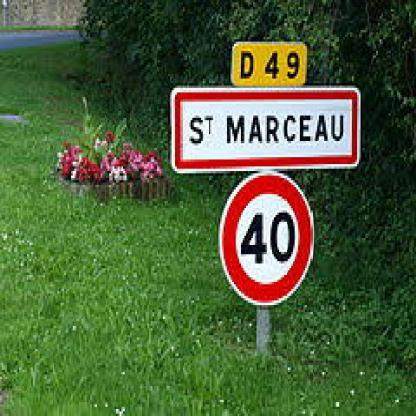Speed Limit 40: (220, 172, 312, 306)
